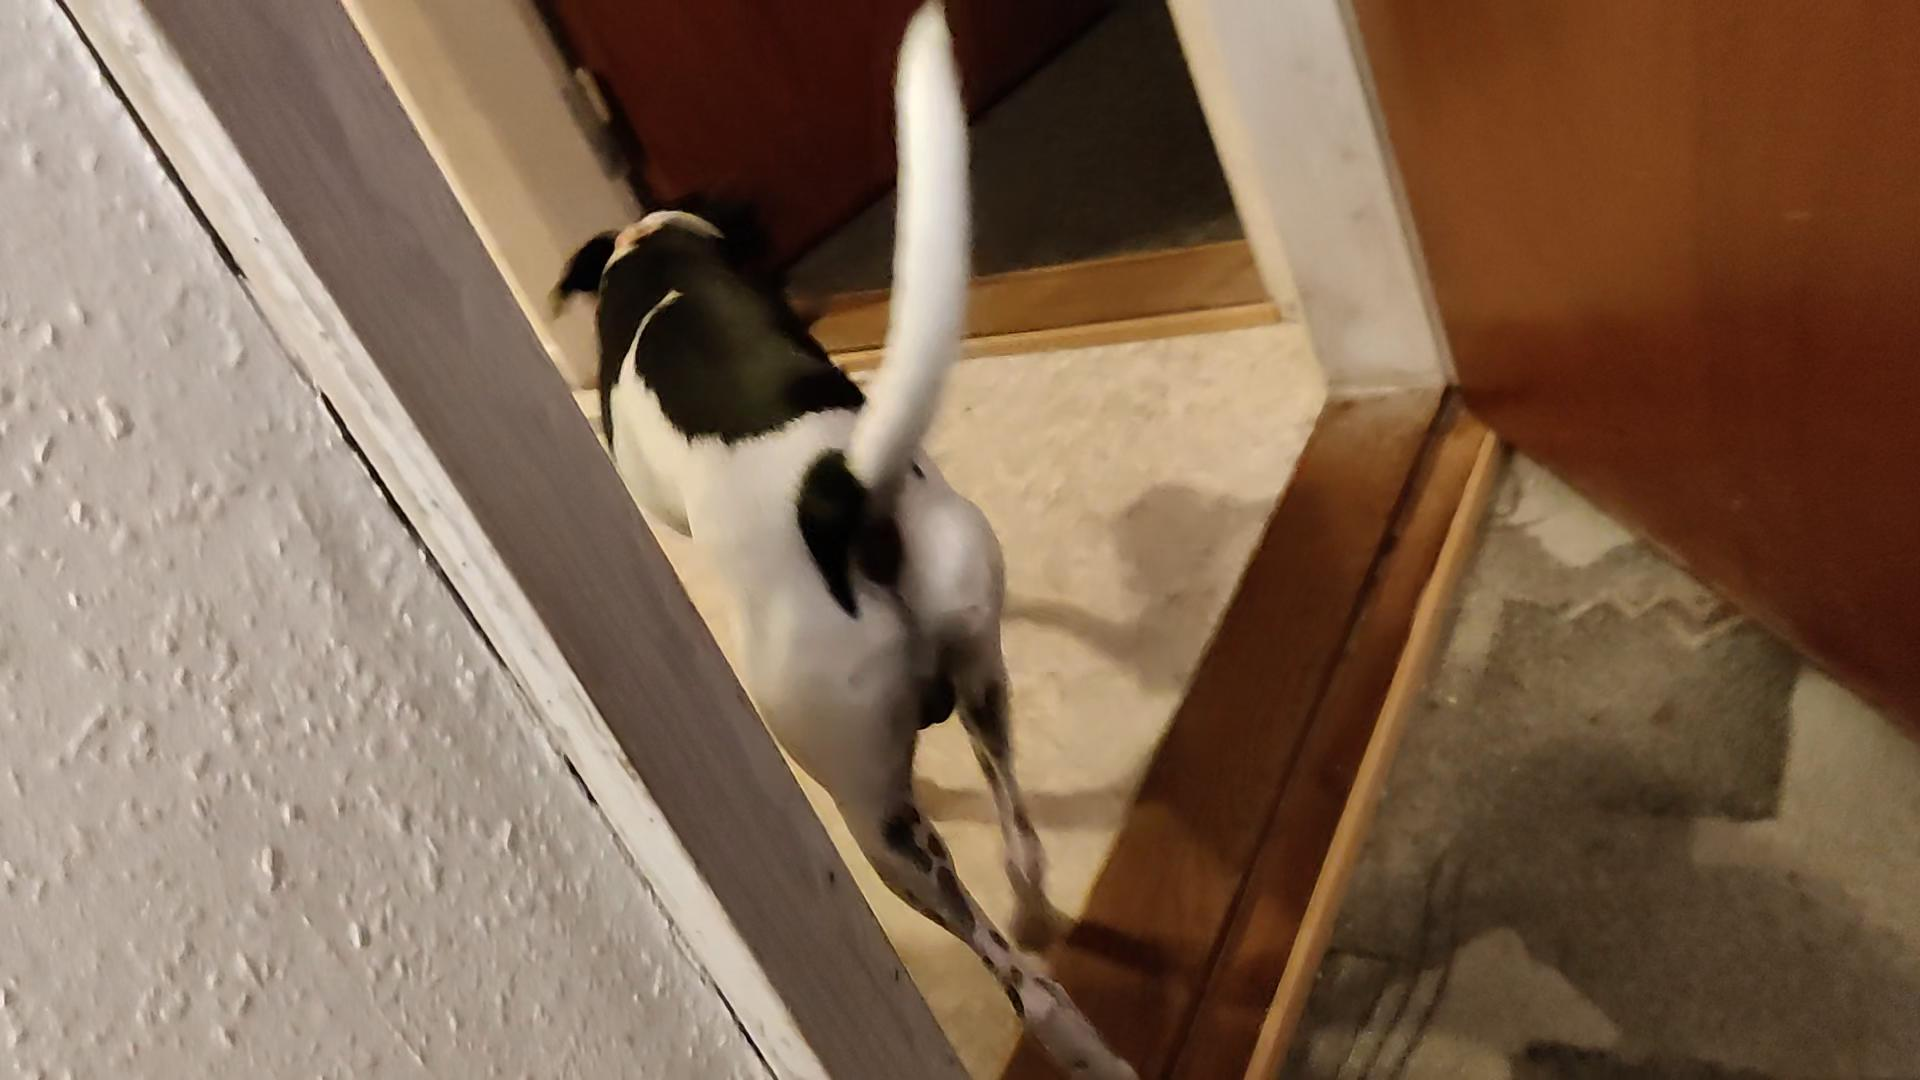Dog: (527, 0, 1153, 1079)
